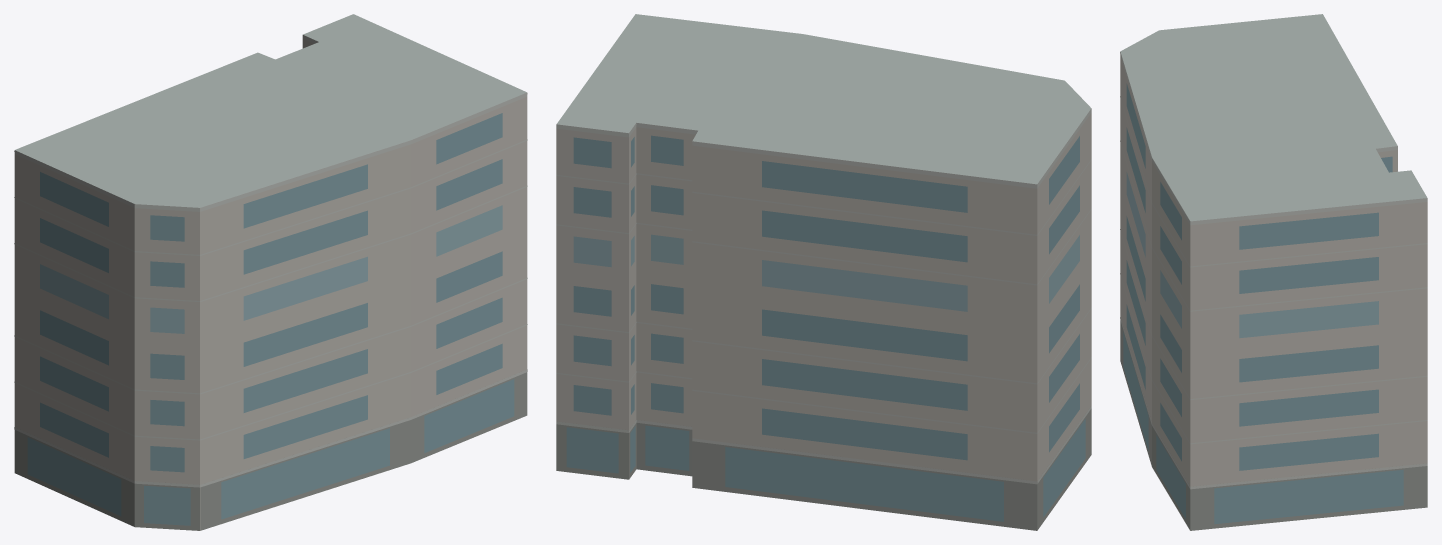
The model's file is survey-upis-32717231.glb.
3 renders of one model, left to right at view 1: azimuth 30°, elevation 25°; view 2: azimuth 150°, elevation 25°; view 3: azimuth 270°, elevation 25°, orthographic. The views are drawn at different scales.
Parts seen in each view (by area): view 1: survey-upis-32717231.tmp; view 2: survey-upis-32717231.tmp; view 3: survey-upis-32717231.tmp.
Boxes of the visible parts, x1,y1,x2,y2 form: survey-upis-32717231.tmp: [14, 14, 527, 530]; survey-upis-32717231.tmp: [556, 14, 1091, 530]; survey-upis-32717231.tmp: [1120, 14, 1427, 530].
Size of the model in its own units: 27.91 by 19.4 by 17.48.
